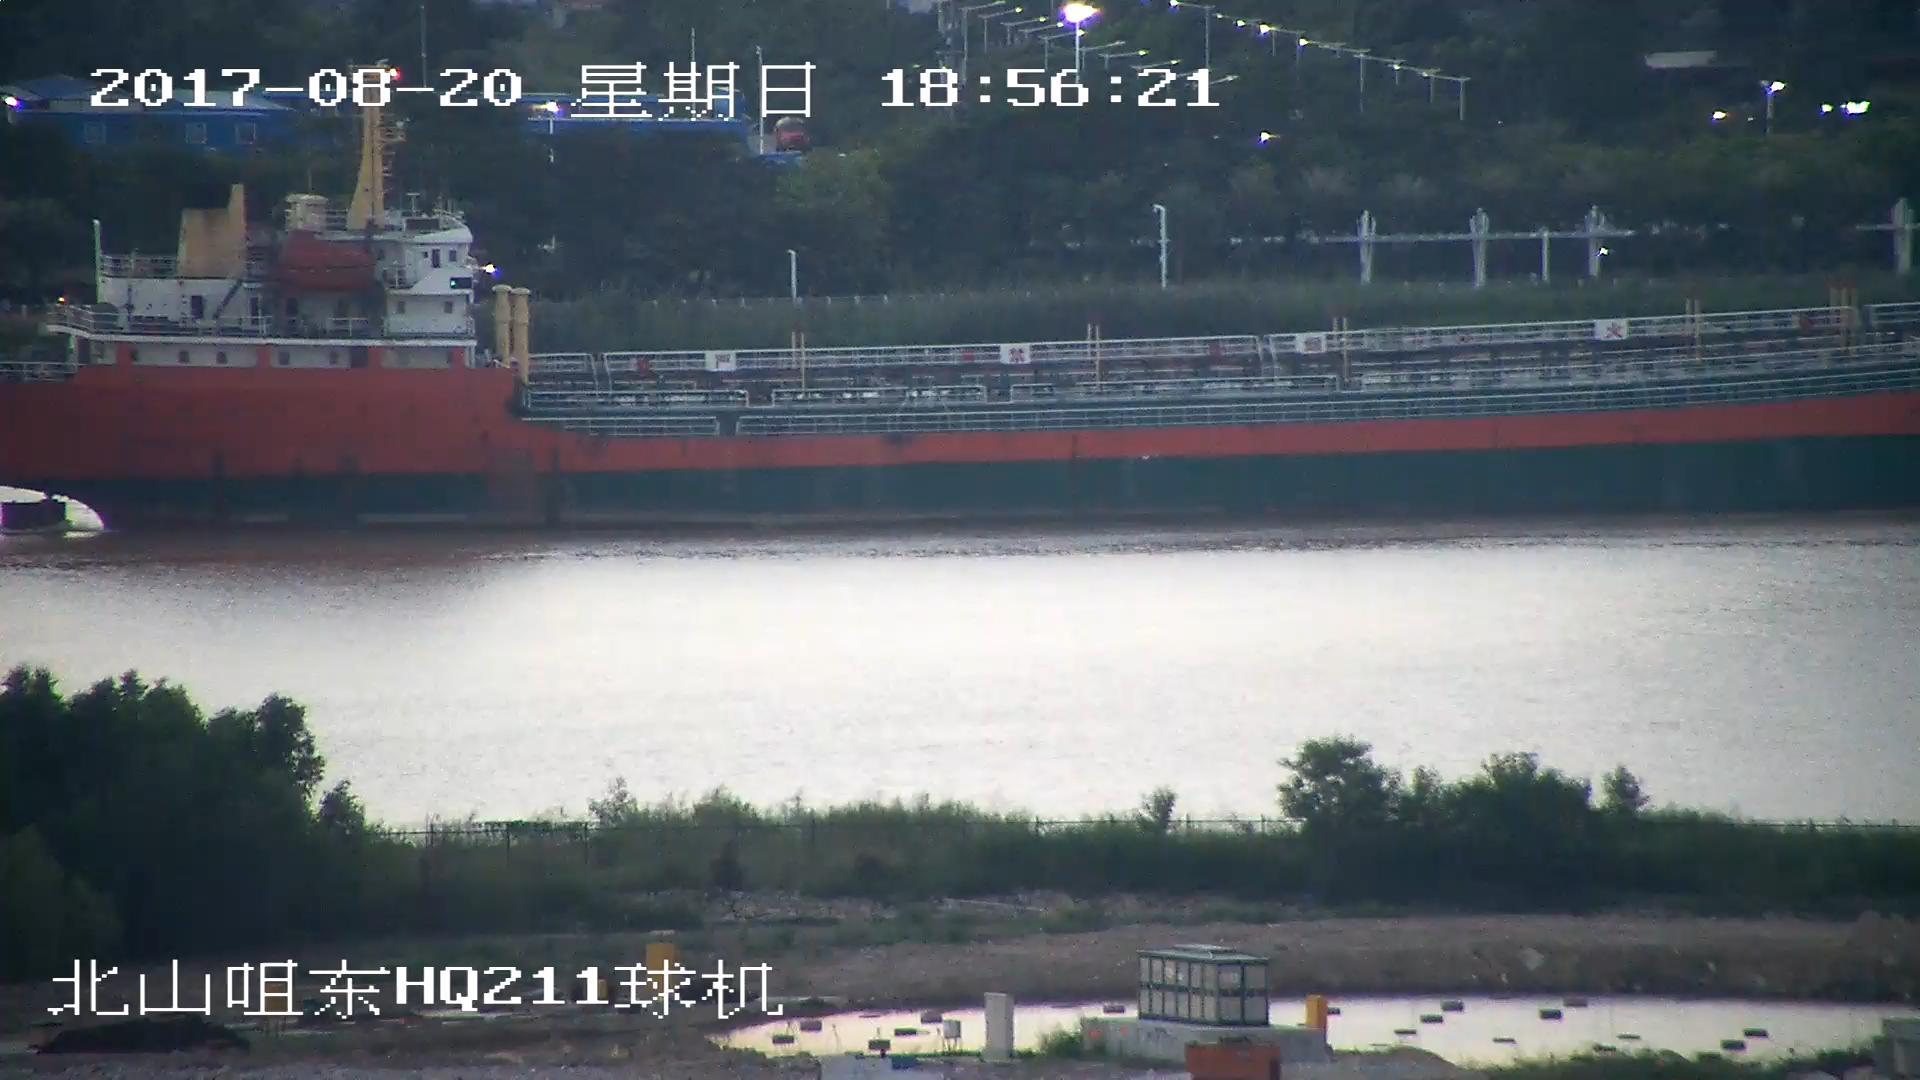Ship: (3, 113, 1920, 521)
